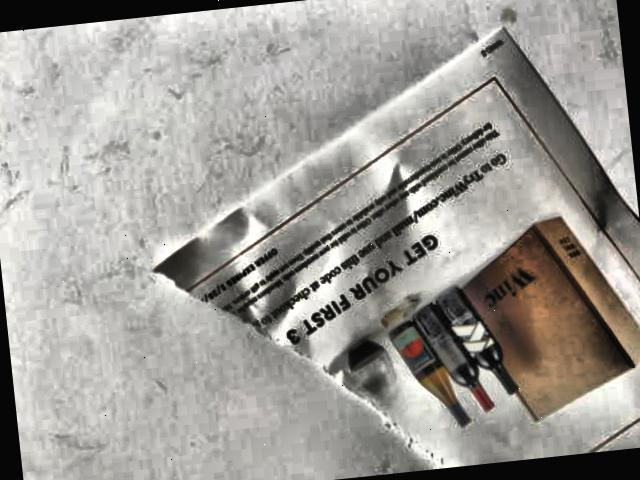Paper: (121, 11, 640, 480)
